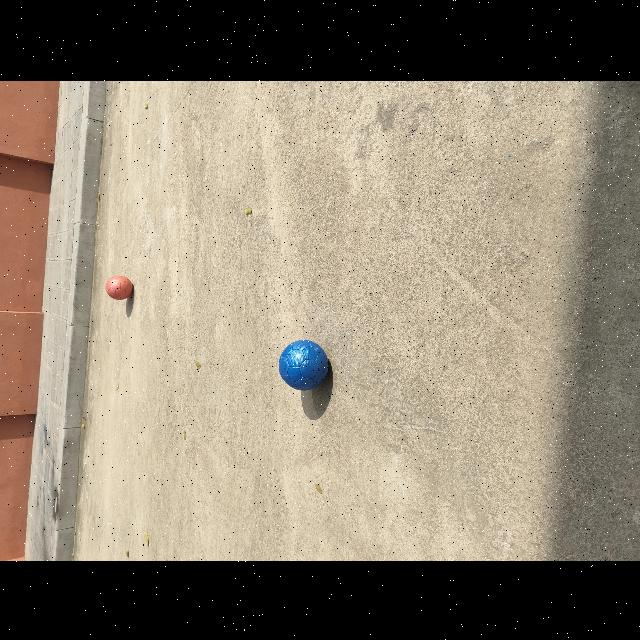B: (278, 339, 329, 390)
R: (105, 274, 133, 299)
